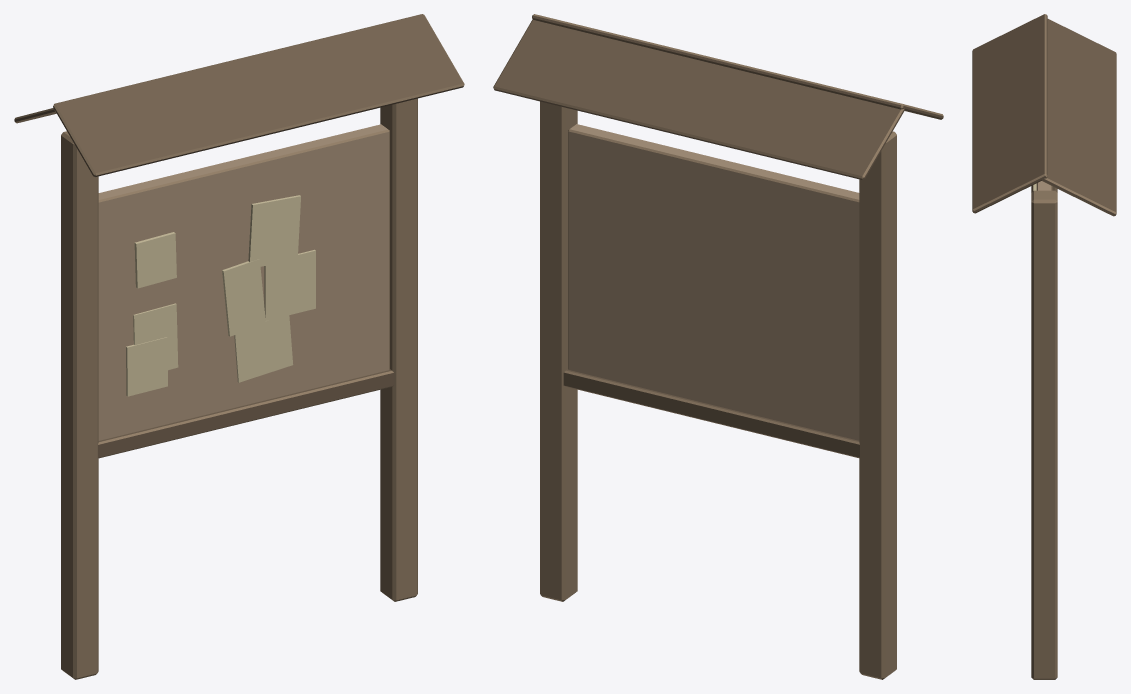
File: notice_board.glb
3 views of the same model, side by side, from view 1: azimuth 30°, elevation 25°; view 2: azimuth 150°, elevation 25°; view 3: azimuth 270°, elevation 25° (orthographic). The views are drawn at different scales.
Visible parts, largest first — view 1: Notice_Board; view 2: Notice_Board; view 3: Notice_Board.
Part boxes in pixels (x1,y1,x2,y2): Notice_Board: (14, 14, 464, 679); Notice_Board: (493, 14, 943, 679); Notice_Board: (972, 14, 1116, 679).
Size of the model in its own units: 1.44 by 2.13 by 0.5447.
